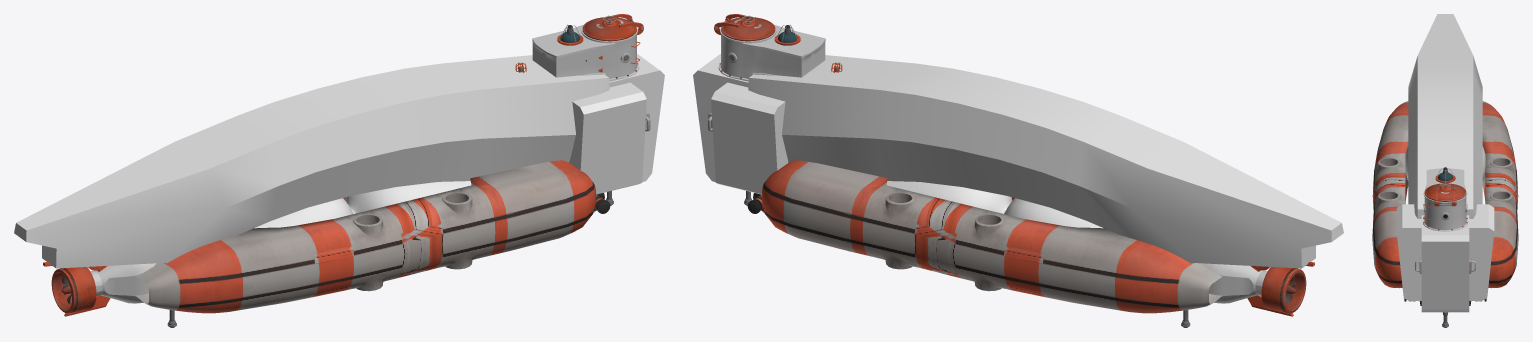
Rendered from highenergysub.fbx.
3 views of the same model, side by side, from view 1: azimuth 30°, elevation 25°; view 2: azimuth 150°, elevation 25°; view 3: azimuth 270°, elevation 25° (orthographic). The views are drawn at different scales.
Visible parts, largest first — view 1: Cube, MAIN TOPO.001, Cube.002, MAIN TOPO.002, MAIN TOPO, Cube.001, Cylinder.272; view 2: Cube, MAIN TOPO.001, Cube.002, MAIN TOPO.002, MAIN TOPO, Cube.001, Cylinder.272; view 3: Cube, MAIN TOPO.001, Cube.002, MAIN TOPO.002, Cylinder.272, Cube.001, Cylinder.002.
Part boxes in pixels (x1,y1,x2,y2): Cube: (14, 54, 664, 268); MAIN TOPO.001: (135, 160, 595, 313); Cube.002: (569, 82, 646, 194); MAIN TOPO.002: (532, 25, 639, 81); MAIN TOPO: (43, 262, 156, 316); Cube.001: (254, 181, 471, 228); Cylinder.272: (167, 14, 643, 327); Cube: (693, 54, 1343, 268); MAIN TOPO.001: (762, 160, 1222, 313); Cube.002: (711, 82, 788, 194); MAIN TOPO.002: (718, 25, 825, 81); MAIN TOPO: (1201, 262, 1314, 316); Cube.001: (886, 181, 1103, 228); Cylinder.272: (714, 14, 1190, 327); Cube: (1408, 14, 1482, 312); MAIN TOPO.001: (1372, 101, 1518, 288); Cube.002: (1396, 204, 1494, 300); MAIN TOPO.002: (1423, 168, 1467, 231); Cylinder.272: (1423, 167, 1467, 327); Cube.001: (1405, 146, 1485, 180); Cylinder.002: (1415, 258, 1475, 273).
Bounding box in the file's own units: 706 × 219 × 186.
